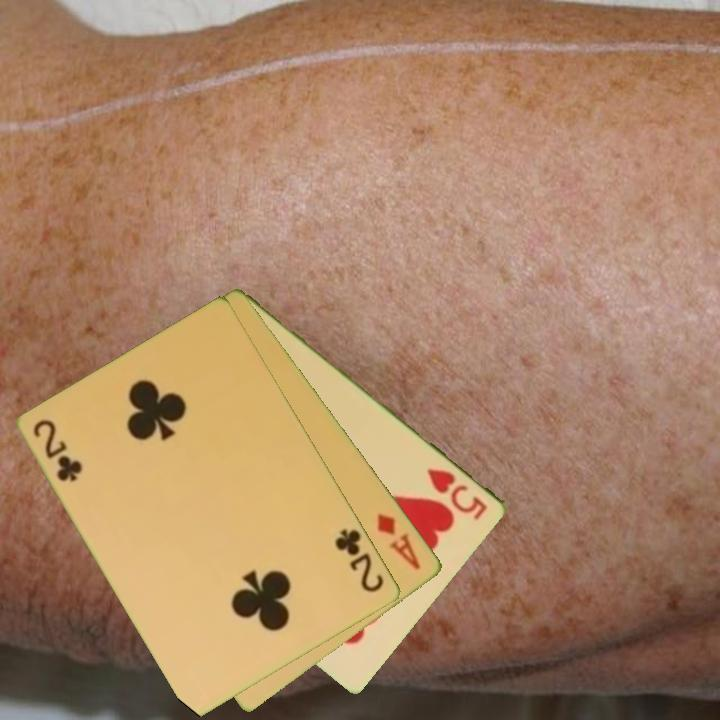2c: (29, 415, 86, 485), (332, 525, 388, 596)
5h: (423, 464, 491, 524)
Ad: (374, 510, 424, 573)
